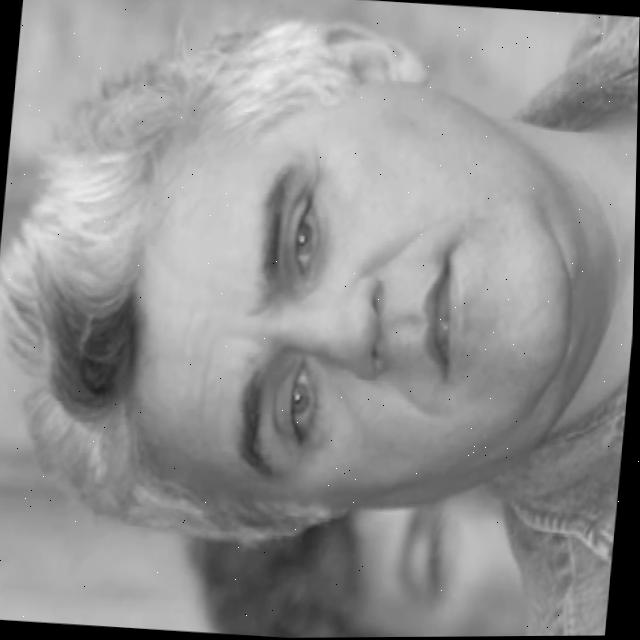natural: (0, 8, 639, 601)
